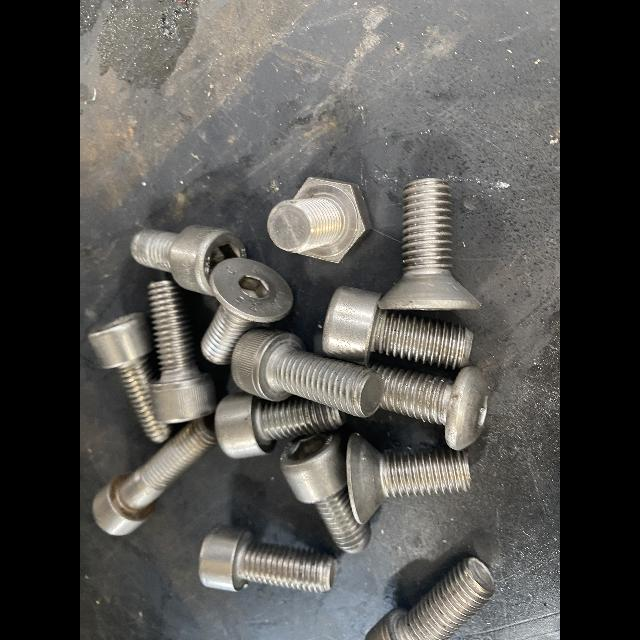Stainless Steel: (93, 420, 216, 535), (231, 329, 381, 418), (380, 178, 480, 310), (323, 287, 471, 367), (347, 435, 470, 523), (280, 432, 370, 552), (365, 557, 495, 640), (89, 313, 169, 442), (371, 365, 491, 450), (202, 257, 293, 364), (148, 280, 215, 424), (199, 526, 337, 592), (267, 177, 370, 263), (215, 395, 345, 459), (131, 225, 246, 296)
